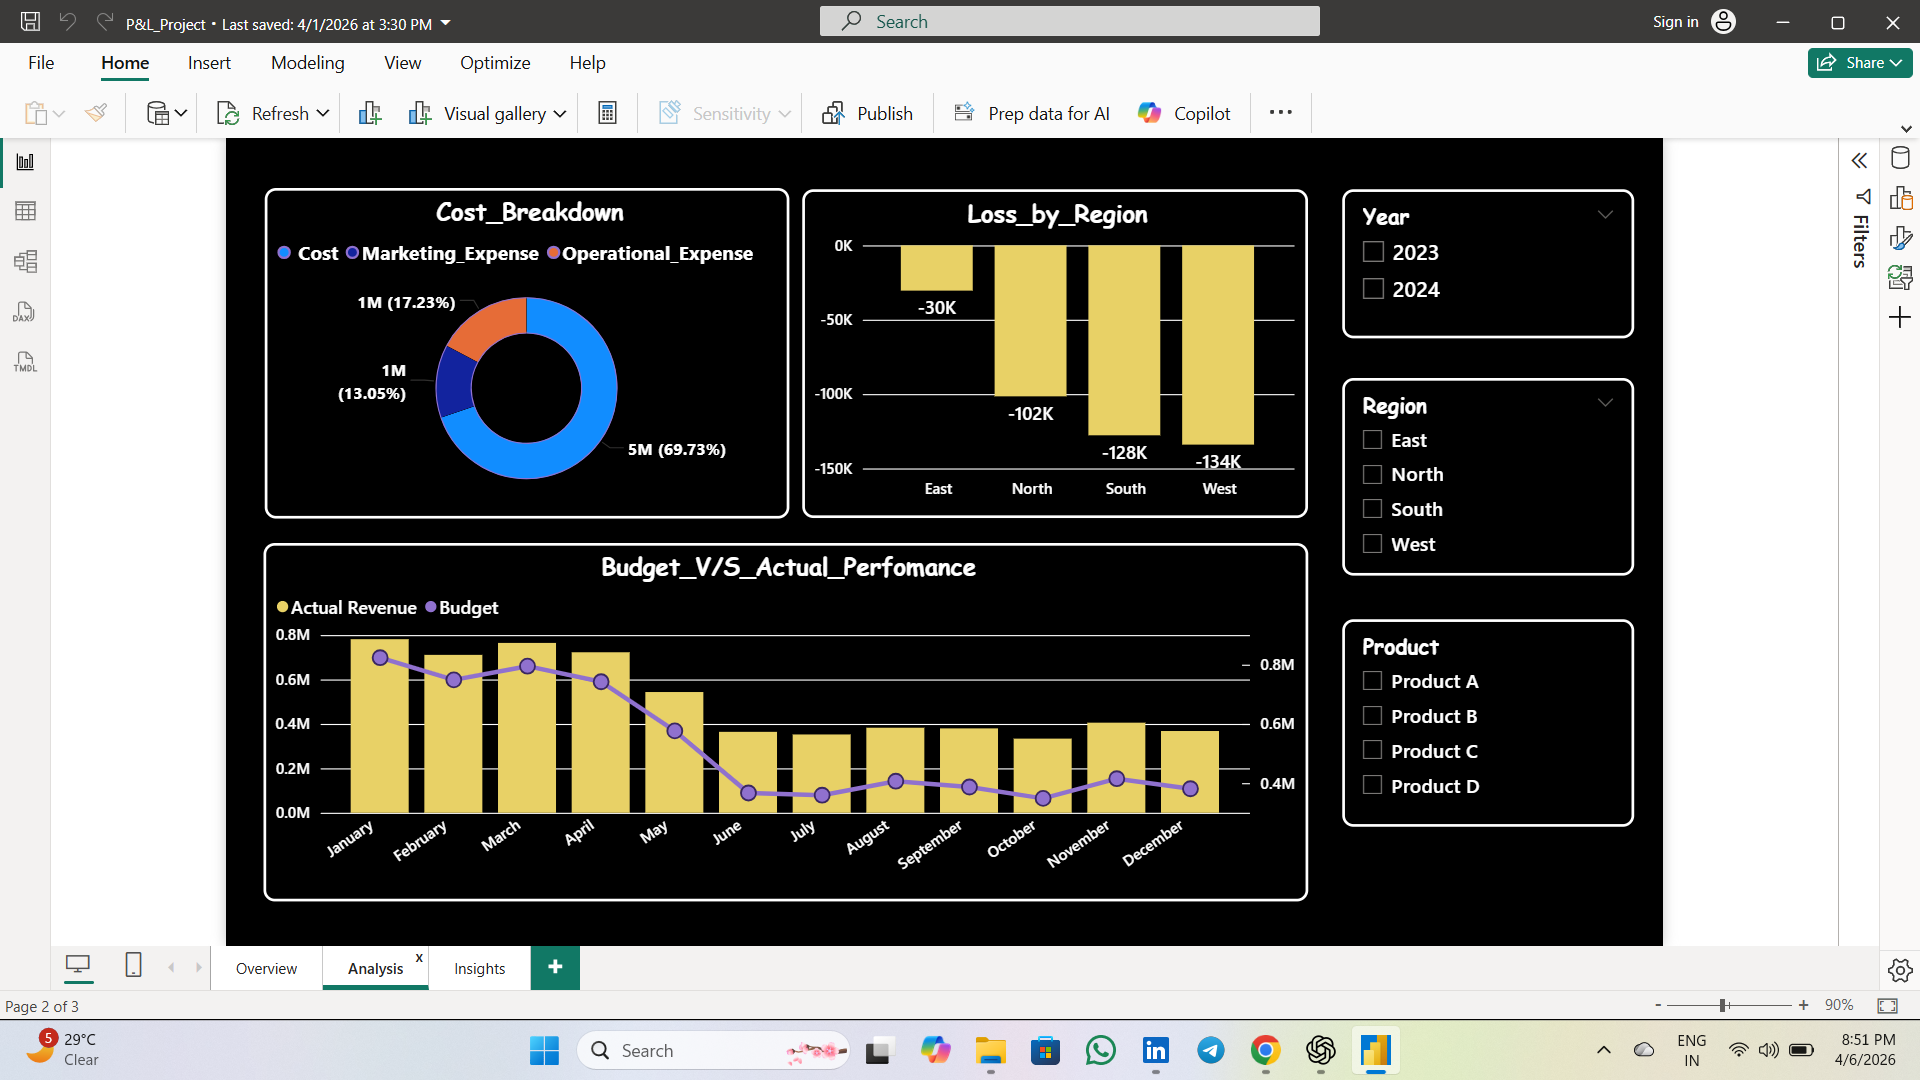

The dashboard page shown, as its layout file describes it:
{"tool":"powerbi","page":{"name":"Analysis","canvas":[1280,720],"ordinal":1},"visuals":[{"type":"donutChart","title":"Cost_Breakdown","fields":{"Y":["Sum(P&L_Dataset.Cost)","Sum(P&L_Dataset.Marketing_Expense)","Sum(P&L_Dataset.Operational_Expense)"]},"box":[34.6,44.7,467.5,294.3],"z":0},{"type":"lineClusteredColumnComboChart","title":"Loss_by_Region","fields":{"Category":["P&L_Dataset.Region"],"Y":["Sum(P&L_Dataset.Profit)"]},"box":[513.6,46.2,450.1,292.9],"z":1000},{"type":"lineClusteredColumnComboChart","title":"Budget_V/S_Actual_Perfomance","fields":{"Category":["P&L_Dataset.Date.Variation.Date Hierarchy.Month"],"Y":["Measure.Actual Revenue"],"Y2":["Measure.Budget"]},"box":[33.2,360.7,930.6,318.9],"z":2000},{"type":"slicer","fields":{"Values":["P&L_Dataset.Date.Variation.Date Hierarchy.Year"]},"box":[994.1,46.2,259.7,132.7],"z":3000},{"type":"slicer","fields":{"Values":["P&L_Dataset.Region"]},"box":[994.1,213.5,259.7,176],"z":4000},{"type":"slicer","fields":{"Values":["P&L_Dataset.Product"]},"box":[994.1,428.5,259.7,184.7],"z":5000}]}

Visuals, with their boxes on the page's 1280x720 design canvas (x1, y1, x2, y2). These are canvas units, not pixel positions in the 1920x1080 screenshot, which may show the page scaled, cropped or inside an application window:
"Cost_Breakdown" donutChart: crop(35, 45, 502, 339)
"Loss_by_Region" lineClusteredColumnComboChart: crop(514, 46, 964, 339)
"Budget_V/S_Actual_Perfomance" lineClusteredColumnComboChart: crop(33, 361, 964, 680)
slicer - P&L_Dataset.Date.Variation.Date Hierarchy.Year: crop(994, 46, 1254, 179)
slicer - P&L_Dataset.Region: crop(994, 214, 1254, 390)
slicer - P&L_Dataset.Product: crop(994, 428, 1254, 613)
